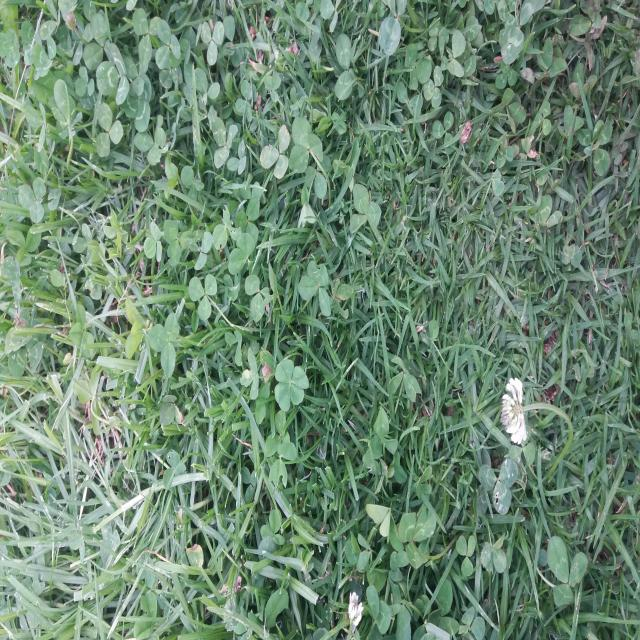Four Leaf Clover: (274, 359, 309, 412)
